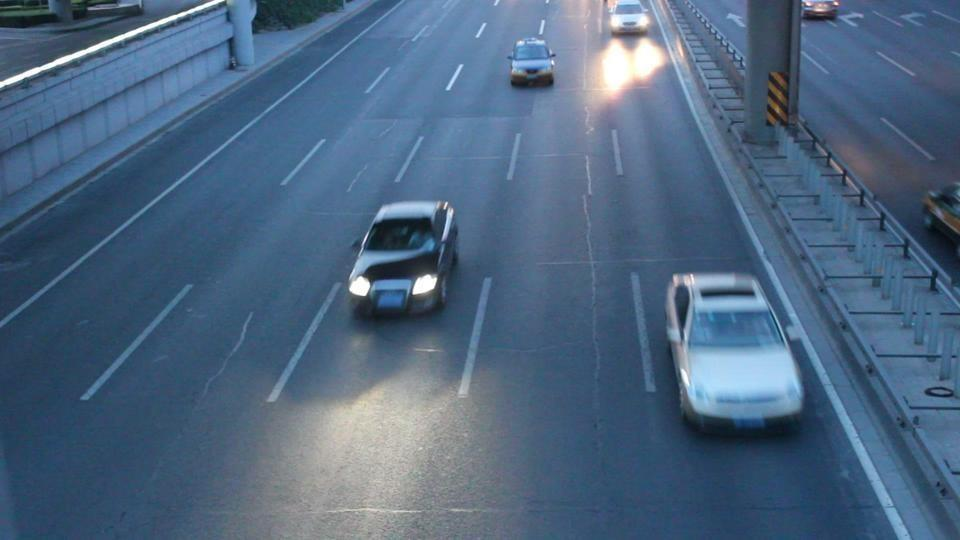car: (664, 272, 805, 436), (346, 200, 461, 319), (597, 35, 667, 105), (922, 181, 960, 251), (508, 38, 557, 88), (609, 0, 651, 35), (801, 0, 841, 20)
